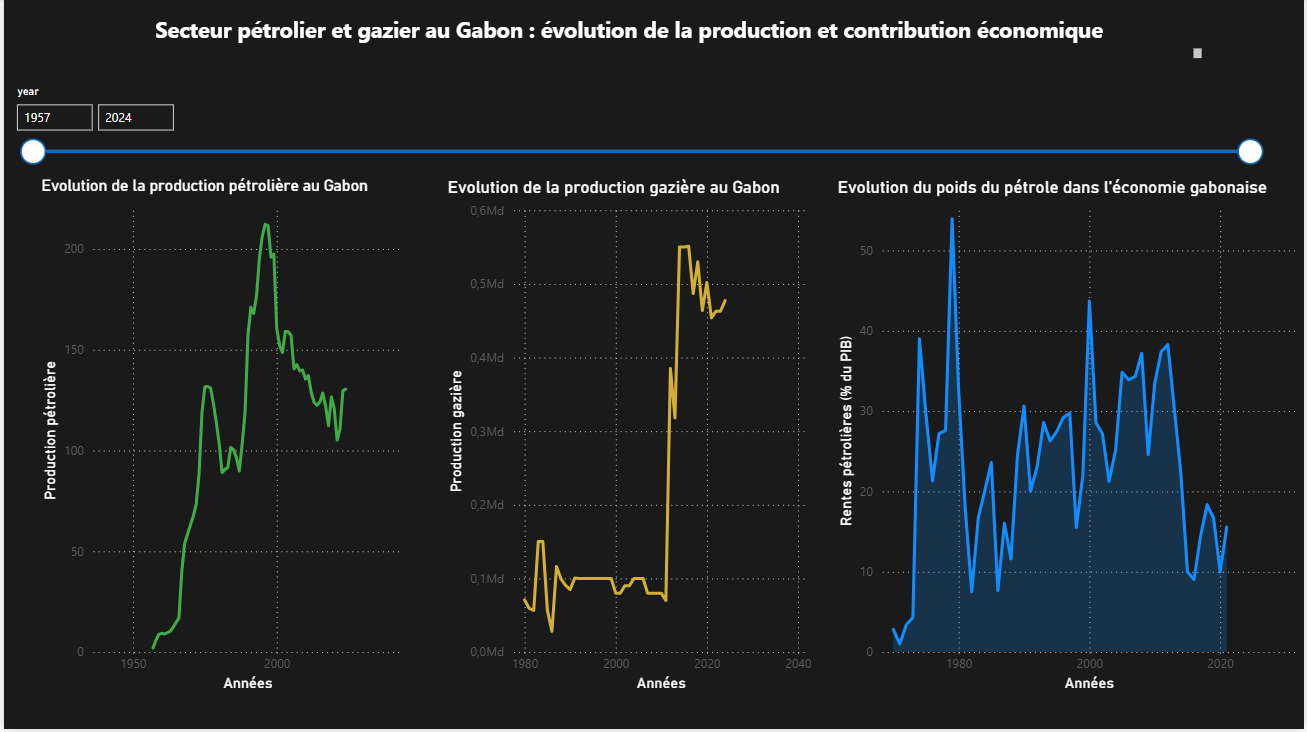

This screenshot's page, from the dashboard's own definition file:
{"tool":"powerbi","page":{"name":"Page 1","canvas":[1280,720],"ordinal":0},"visuals":[{"type":"slicer","fields":{"Values":["Years.year"]},"box":[0,60.9,385.5,220.3],"z":0},{"type":"lineChart","title":"Evolution de la production pétrolière au Gabon","fields":{"Category":["gabon_oil.year"],"Y":["Sum(gabon_oil.oil_production__twh)"]},"box":[657.1,61.2,606.1,298],"z":1},{"type":"lineChart","title":"Evolution de la production gazière au Gabon","fields":{"Category":["gabon_gas.year"],"Y":["Sum(gabon_gas.natural_gas_production)"]},"box":[10.2,406.1,561.2,293.9],"z":2},{"type":"lineChart","title":"Evolution du poids du pétrole dans l''économie gabonaise","fields":{"Category":["gabon_rents.year"],"Y":["Sum(gabon_rents.oil_rents_pct_gdp)"]},"box":[640.8,406.1,606.1,293.9],"z":3},{"type":"textbox","box":[138.8,0,1036.7,61.2],"z":4}]}

Visuals, with their boxes in screenshot pixels (x1, y1, x2, y2), scaled from the page's 1280x720 canvas onto the 1307x732 screenshot:
slicer - Years.year: bbox(0, 62, 394, 286)
"Evolution de la production pétrolière au Gabon" lineChart: bbox(671, 62, 1290, 365)
"Evolution de la production gazière au Gabon" lineChart: bbox(10, 413, 583, 712)
"Evolution du poids du pétrole dans l''économie gabonaise" lineChart: bbox(654, 413, 1273, 712)
textbox: bbox(142, 0, 1200, 62)
